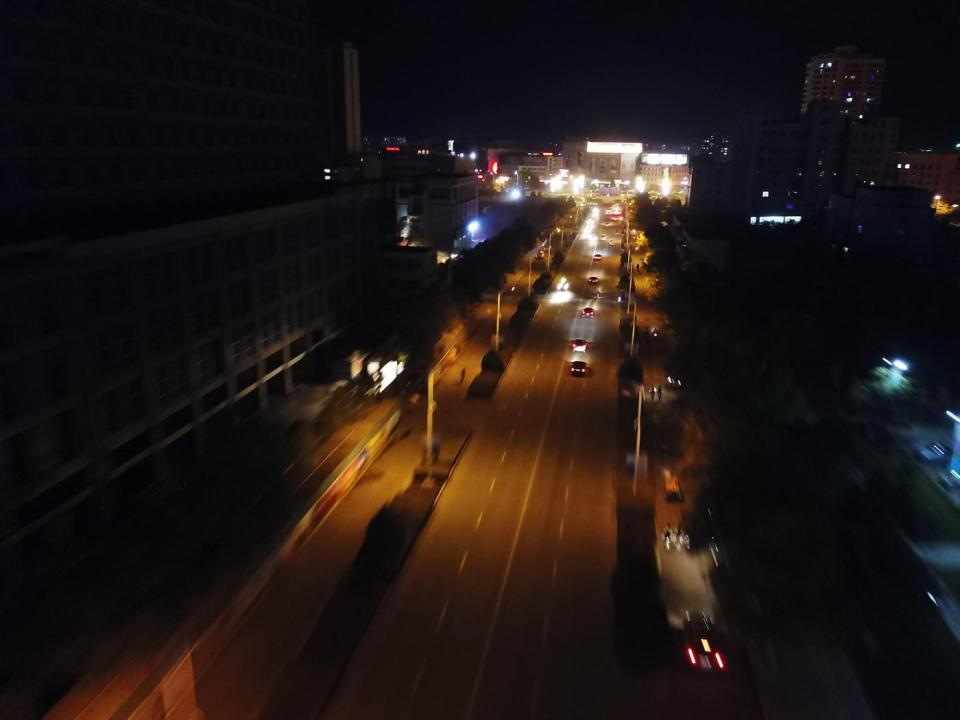car: (706, 507, 758, 572), (683, 611, 729, 674), (661, 354, 691, 387), (912, 441, 952, 461), (664, 473, 682, 503), (570, 360, 587, 376), (572, 338, 587, 353), (582, 308, 595, 318), (557, 278, 568, 289), (589, 276, 598, 284), (593, 254, 602, 260), (544, 245, 551, 251), (609, 239, 615, 244), (680, 189, 687, 193), (614, 206, 620, 210), (606, 222, 610, 227), (614, 210, 619, 214), (524, 185, 529, 188), (606, 212, 611, 215), (613, 217, 618, 220), (606, 208, 611, 211), (580, 203, 585, 206), (610, 205, 614, 208)
van: (536, 251, 544, 258), (600, 234, 606, 241)
